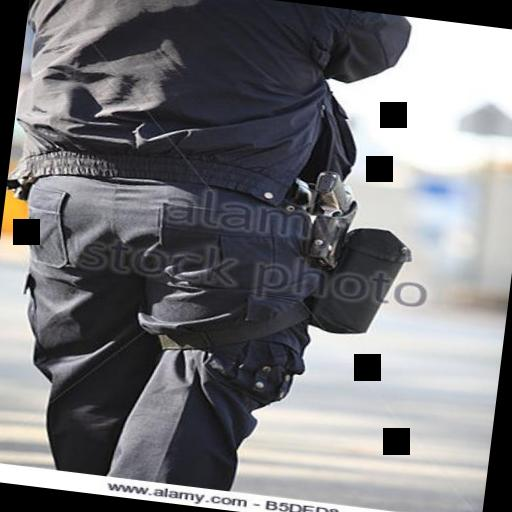Handgun: (302, 166, 362, 266)
